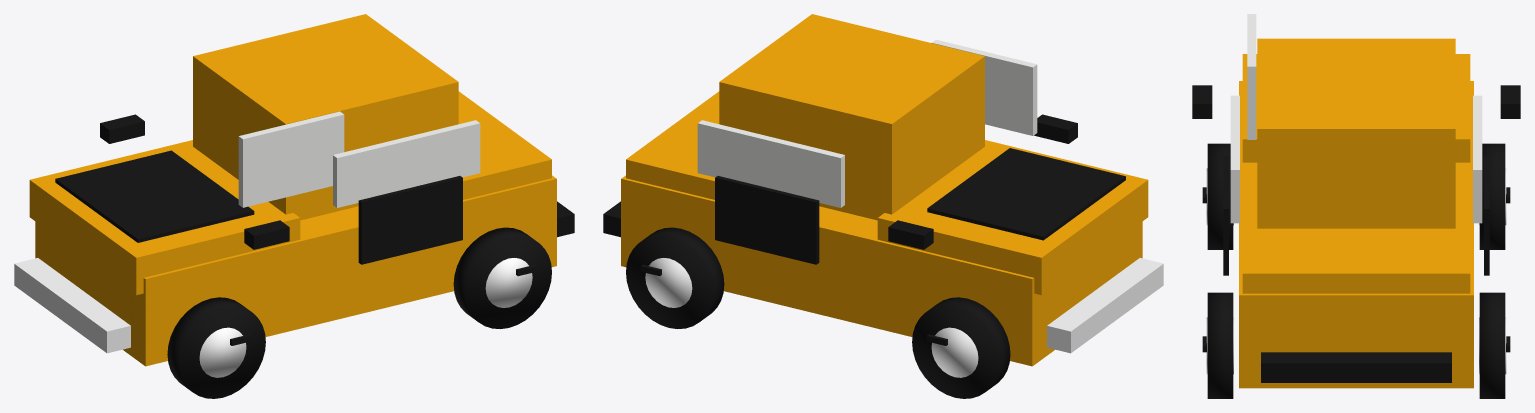
Rendered from car_orange.glb.
3 views of the same model, side by side, from view 1: azimuth 30°, elevation 25°; view 2: azimuth 150°, elevation 25°; view 3: azimuth 270°, elevation 25° (orthographic). The views are drawn at different scales.
Parts seen in each view (by area): view 1: car lower body, car cabin block, car hood, hood inset line, side window left, front windshield, door cut left, black car tire, black car tire.002, car trunk, front bumper white, white wheel hub (+4 smaller); view 2: car cabin block, car lower body, car hood, hood inset line, side window right, door cut right, black car tire.001, black car tire.003, car trunk, front bumper white, front windshield, white wheel hub.001 (+4 smaller); view 3: car cabin block, car lower body, car trunk, rear bumper black, black car tire.002, black car tire.003, car hood, black car tire, black car tire.001, side window left, side window right, front windshield (+4 smaller).
Boxes of the visible parts, x1,y1,x2,y2 form: car lower body: (35, 175, 556, 366); car cabin block: (193, 14, 458, 220); car hood: (29, 140, 300, 295); hood inset line: (55, 150, 254, 242); side window left: (333, 120, 480, 207); front windshield: (238, 111, 344, 207); door cut left: (358, 176, 462, 264); black car tire: (167, 297, 265, 398); black car tire.002: (453, 227, 551, 328); car trunk: (458, 91, 551, 199); front bumper white: (14, 258, 130, 353); white wheel hub: (199, 327, 246, 377); car cabin block: (719, 14, 984, 220); car lower body: (621, 175, 1142, 366); car hood: (877, 140, 1148, 295); hood inset line: (927, 148, 1125, 240); side window right: (697, 120, 844, 207); door cut right: (715, 176, 819, 264); black car tire.001: (912, 297, 1010, 398); black car tire.003: (626, 227, 724, 328); car trunk: (626, 91, 719, 199); front bumper white: (1047, 258, 1163, 353); front windshield: (932, 39, 1037, 135); white wheel hub.001: (931, 327, 978, 377); car cabin block: (1257, 38, 1455, 228); car lower body: (1239, 81, 1473, 388); car trunk: (1242, 211, 1470, 293); rear bumper black: (1261, 352, 1451, 382); black car tire.002: (1207, 292, 1233, 398); black car tire.003: (1479, 292, 1505, 398); car hood: (1242, 54, 1470, 162); black car tire: (1207, 143, 1233, 249); black car tire.001: (1479, 143, 1505, 249); side window left: (1230, 95, 1239, 223); side window right: (1473, 95, 1482, 223); front windshield: (1247, 14, 1256, 139).
Bounding box in the file's own units: 1.57 × 0.755 × 0.895.
